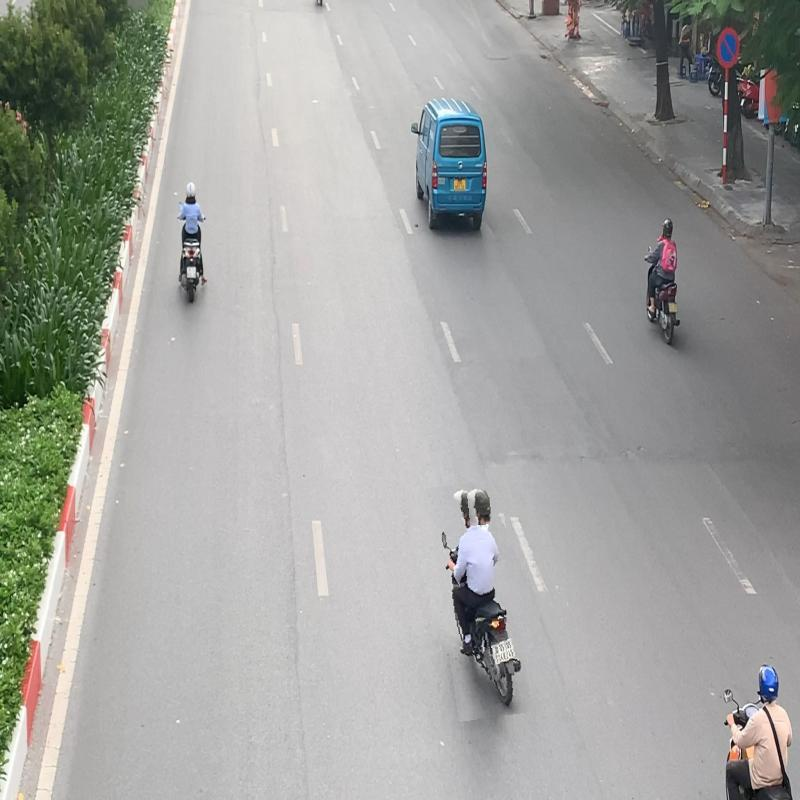helmet: (468, 489, 491, 526)
licenseplate: (492, 642, 507, 664)
motorcyclist: (434, 480, 524, 720)
